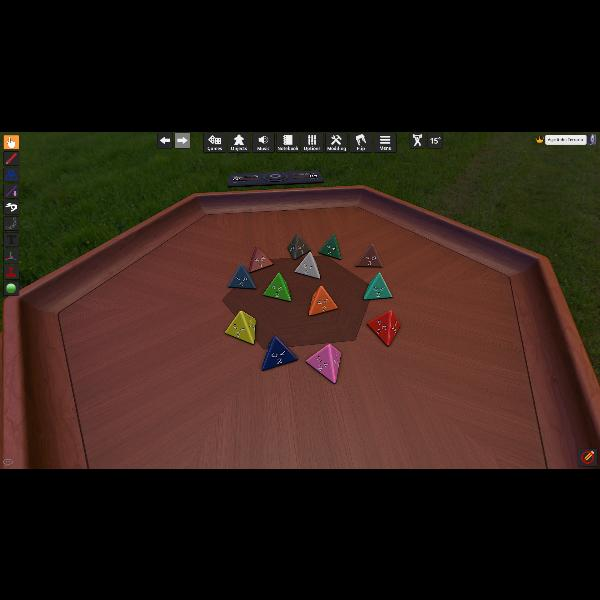d4: (262, 335, 298, 371), (307, 344, 341, 382), (367, 309, 399, 345), (226, 310, 256, 344), (308, 284, 336, 316), (263, 273, 291, 301), (364, 272, 392, 300), (293, 251, 319, 279), (228, 264, 258, 288), (318, 234, 342, 260), (356, 243, 382, 267), (250, 245, 272, 272), (288, 234, 310, 260)
